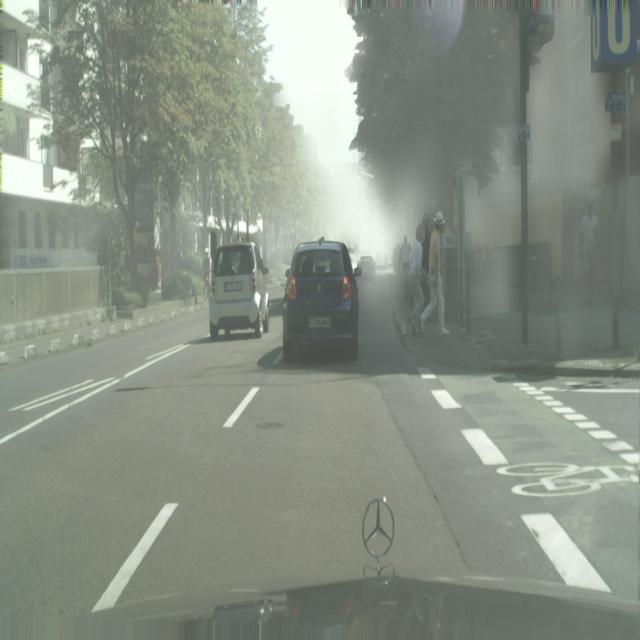car: (202, 248, 211, 302)
person: (420, 211, 450, 336), (408, 222, 428, 335), (579, 200, 599, 306), (401, 234, 411, 292)
truck: (282, 239, 360, 362), (208, 241, 270, 340), (356, 255, 376, 279)
